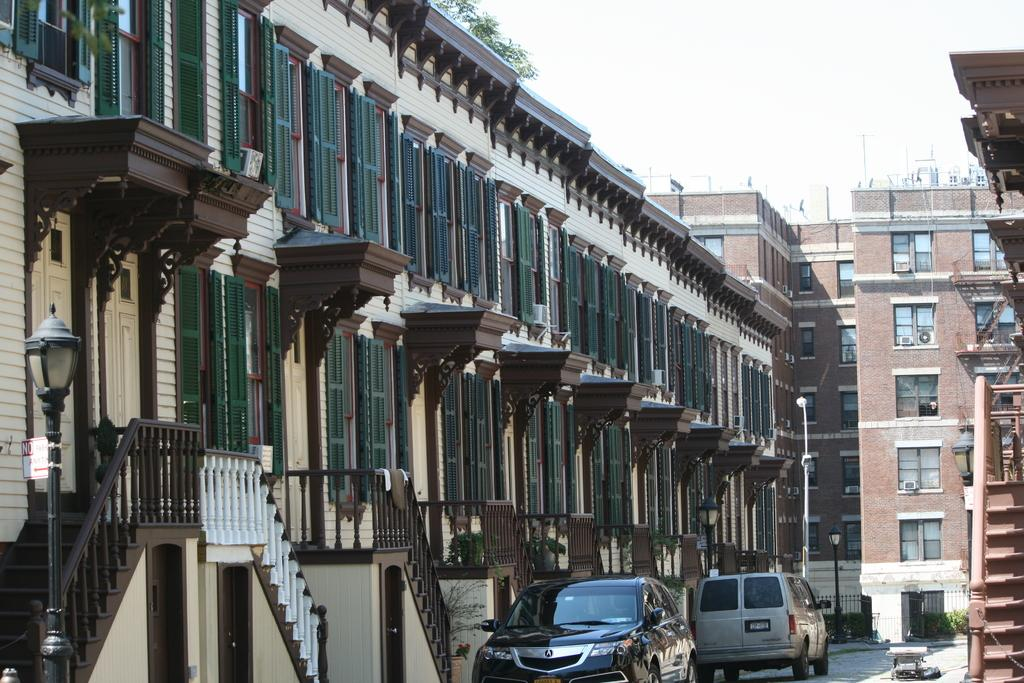vehicle: (473, 575, 699, 683), (691, 572, 831, 683)
